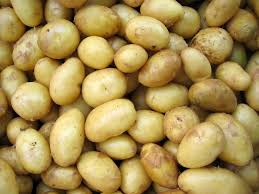potato: (177, 120, 226, 168), (49, 108, 87, 167), (85, 99, 136, 142), (187, 77, 238, 114), (10, 79, 52, 121), (73, 3, 122, 37), (51, 56, 84, 105), (82, 67, 128, 101), (114, 42, 146, 73)
